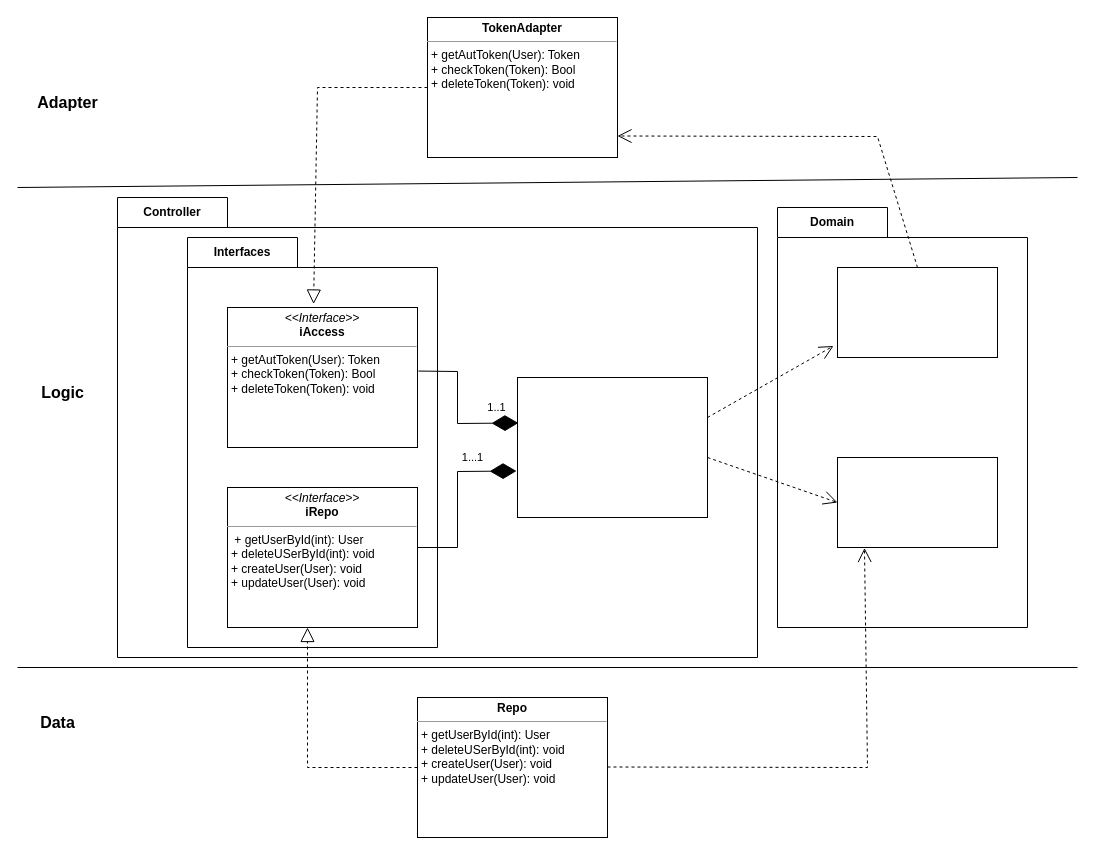
Image size: 1096x855. Some labels were removed from this diagram. Here are the shapes that lost their labels. From the top down, the centre of each, then its label:
point (917, 312): User - id: int - name: String - login: String - hashPass: long + method(): Type
point (612, 447): AccessController - access: iAccess - repo: iRepo +checkAccess(User, Token): bool
point (917, 502): Token - token: String
